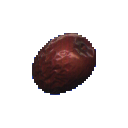gd: (21, 17, 110, 115)
